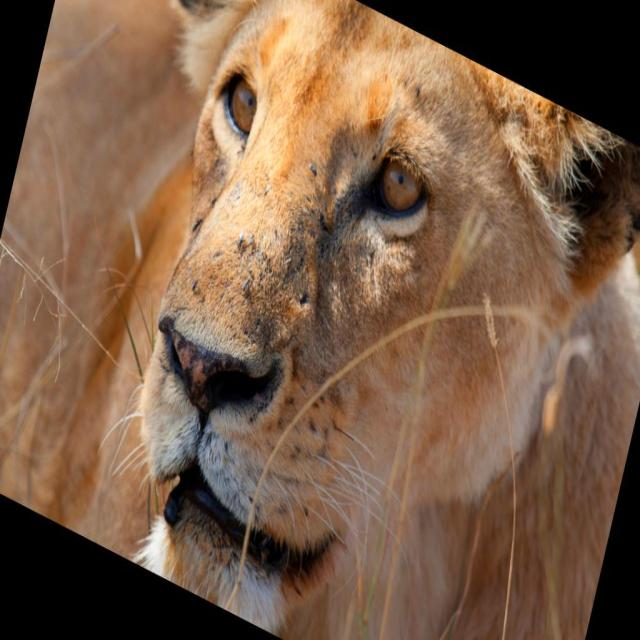Lion: (25, 0, 640, 639)
